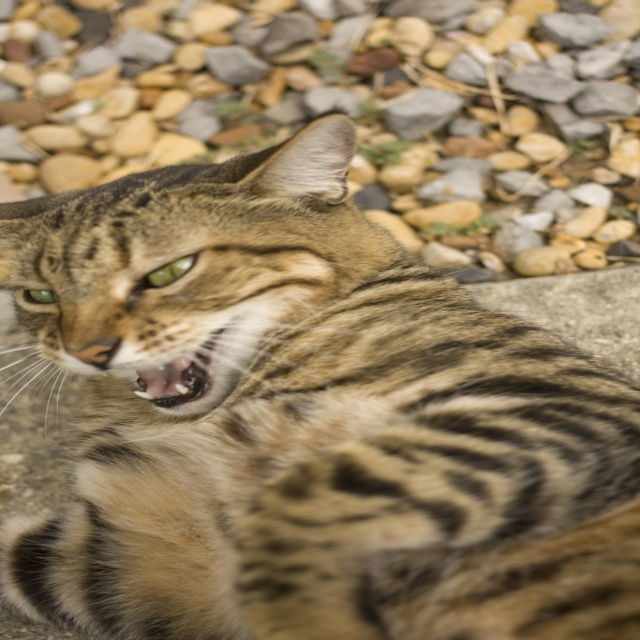Lynx: (0, 110, 639, 640)
